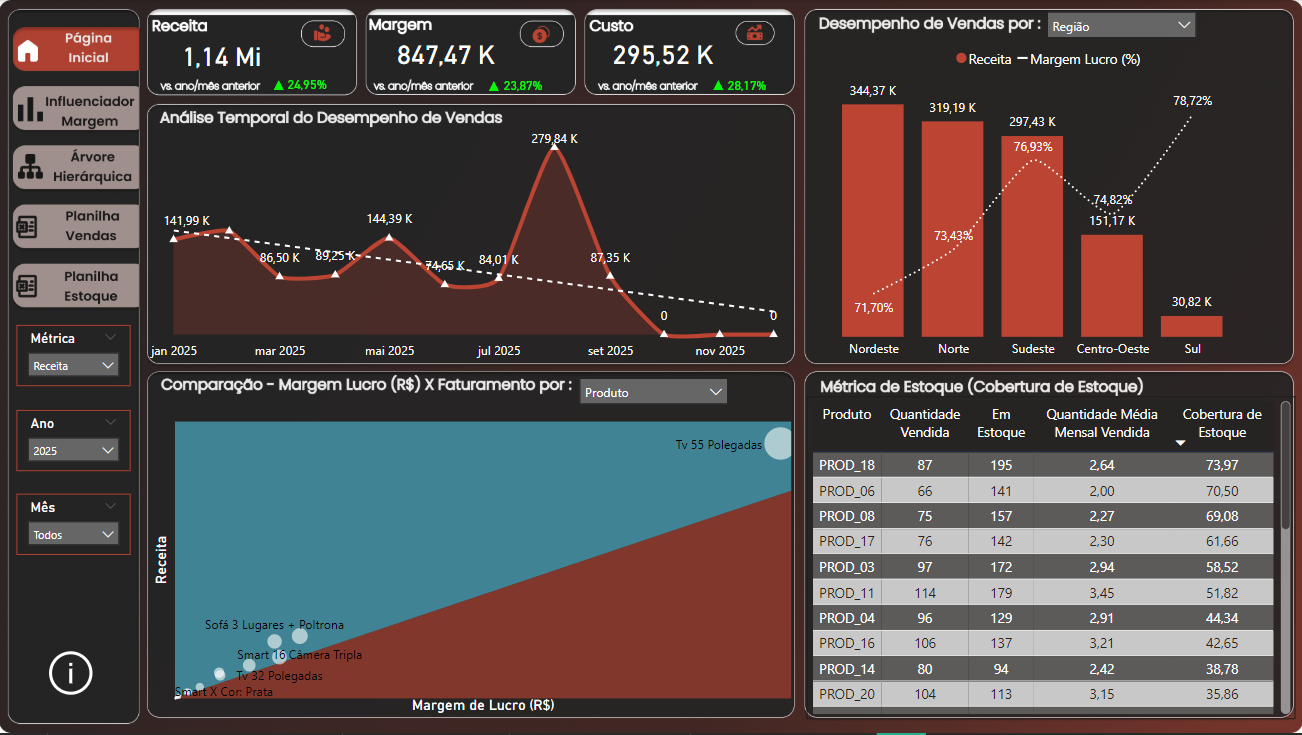

This screenshot's page, from the dashboard's own definition file:
{"tool":"powerbi","page":{"name":"Visão Geral","canvas":[1280,720],"ordinal":0},"visuals":[{"type":"card","fields":{"Values":["@Medidas.ReceitaTotal"]},"box":[148.6,37.1,140,35.7],"z":0},{"type":"lineClusteredColumnComboChart","fields":{"Category":["dClientes.Região"],"Y":["@Medidas.ReceitaTotal"],"Y2":["@Medidas.PercentMargemLucro"]},"box":[791.2,36.2,481.2,323.8],"z":1000},{"type":"card","fields":{"Values":["@Medidas.MargemLucroAnoAnterior"]},"box":[483.7,72.9,62,27.7],"z":2000},{"type":"areaChart","fields":{"Y":["@Medidas.ReceitaTotal"],"Category":["dData.DATA DE VENDA.Variation.Hierarquia de datas.Ano","dData.DATA DE VENDA.Variation.Hierarquia de datas.Mês"]},"box":[143.4,117.4,647,245],"z":3000},{"type":"slicer","fields":{"Values":["dData.DATA DE VENDA.Variation.Hierarquia de datas.Ano"]},"box":[17.2,402.2,111.7,60.1],"z":4000},{"type":"card","fields":{"Values":["@Medidas.ReceitaAnoAnterior"]},"box":[267.6,71.4,69.9,27.7],"z":5000},{"type":"slicer","fields":{"Values":["dData.DATA DE VENDA.Variation.Hierarquia de datas.Mês"]},"box":[16.9,484.7,111.7,60.1],"z":6000},{"type":"card","fields":{"Values":["@Medidas.CustoAnoAnterior"]},"box":[700.9,71.4,67.2,29],"z":7000},{"type":"card","fields":{"Values":["@Medidas.MargemLucro"]},"box":[364.3,35.7,148.6,35.7],"z":8000},{"type":"card","fields":{"Values":["@Medidas.CustoTotal"]},"box":[577.1,35.7,150,35.7],"z":9000},{"type":"card","fields":{"Values":["@Medidas.IconMargemLucroAnoAnterior"]},"box":[474.2,71.5,24.3,24.3],"z":10000},{"type":"card","fields":{"Values":["@Medidas.IconCustoAnoAnterior"]},"box":[694.3,69.6,23.3,24.5],"z":11000},{"type":"card","fields":{"Values":["@Medidas.IconReceitaAnoAnterior"]},"box":[262.3,70.1,23.7,23.7],"z":12000},{"type":"tableEx","fields":{"Values":["dEstoque.Produto","@Medidas.QtdVendida","@Medidas.QtdEstoque","@Medidas.MédiaVendasPorMêsProduto","@Medidas.CoberturaEstoque"]},"box":[792.7,389.6,479.9,317.3],"z":13000},{"type":"scatterChart","fields":{"Category":["dProdutos.DESCRIÇÃO"],"Y":["@Medidas.ReceitaTotal"],"X":["@Medidas.MargemLucro"],"Size":["@Medidas.MargemLucro"]},"box":[146,400,636.8,305.5],"z":14000},{"type":"slicer","title":"Selecione a Métrica","fields":{"Values":["Parâmetro.Parâmetro"]},"box":[16.9,319,111.7,60.1],"z":15000},{"type":"slicer","fields":{"Values":["ParRegiãoCat.ParRegiãoCat"]},"box":[558.9,360.2,166,38.4],"z":16000},{"type":"slicer","fields":{"Values":["ParRegiãoCat.ParRegiãoCat"]},"box":[1018.4,1.2,166.9,42.9],"z":17000},{"type":"pageNavigator","box":[10.6,83.8,128.1,46.2],"z":18000},{"type":"pageNavigator","box":[10.7,142.9,127.9,43.6],"z":19000},{"type":"pageNavigator","box":[10.6,198.1,128.1,47.5],"z":20000},{"type":"pageNavigator","box":[10.6,256.9,128.1,45],"z":21000},{"type":"actionButton","box":[42.9,633.1,60,55],"z":22000}]}

Visuals, with their boxes in screenshot pixels (x1, y1, x2, y2), scaled from the page's 1280x720 canvas onto the 1302x735 screenshot:
card - @Medidas.ReceitaTotal: [left=151, top=38, right=294, bottom=74]
lineClusteredColumnComboChart - dClientes.Região x @Medidas.ReceitaTotal: [left=805, top=37, right=1294, bottom=368]
card - @Medidas.MargemLucroAnoAnterior: [left=492, top=74, right=555, bottom=103]
areaChart - @Medidas.ReceitaTotal x dData.DATA DE VENDA.Variation.Hierarquia de datas.Ano: [left=146, top=120, right=804, bottom=370]
slicer - dData.DATA DE VENDA.Variation.Hierarquia de datas.Ano: [left=17, top=411, right=131, bottom=472]
card - @Medidas.ReceitaAnoAnterior: [left=272, top=73, right=343, bottom=101]
slicer - dData.DATA DE VENDA.Variation.Hierarquia de datas.Mês: [left=17, top=495, right=131, bottom=556]
card - @Medidas.CustoAnoAnterior: [left=713, top=73, right=781, bottom=102]
card - @Medidas.MargemLucro: [left=371, top=36, right=522, bottom=73]
card - @Medidas.CustoTotal: [left=587, top=36, right=740, bottom=73]
card - @Medidas.IconMargemLucroAnoAnterior: [left=482, top=73, right=507, bottom=98]
card - @Medidas.IconCustoAnoAnterior: [left=706, top=71, right=730, bottom=96]
card - @Medidas.IconReceitaAnoAnterior: [left=267, top=72, right=291, bottom=96]
tableEx - dEstoque.Produto x @Medidas.QtdVendida: [left=806, top=398, right=1294, bottom=722]
scatterChart - dProdutos.DESCRIÇÃO x @Medidas.ReceitaTotal: [left=149, top=408, right=796, bottom=720]
"Selecione a Métrica" slicer: [left=17, top=326, right=131, bottom=387]
slicer - ParRegiãoCat.ParRegiãoCat: [left=569, top=368, right=737, bottom=407]
slicer - ParRegiãoCat.ParRegiãoCat: [left=1036, top=1, right=1206, bottom=45]
pageNavigator: [left=11, top=86, right=141, bottom=133]
pageNavigator: [left=11, top=146, right=141, bottom=190]
pageNavigator: [left=11, top=202, right=141, bottom=251]
pageNavigator: [left=11, top=262, right=141, bottom=308]
actionButton: [left=44, top=646, right=105, bottom=702]
